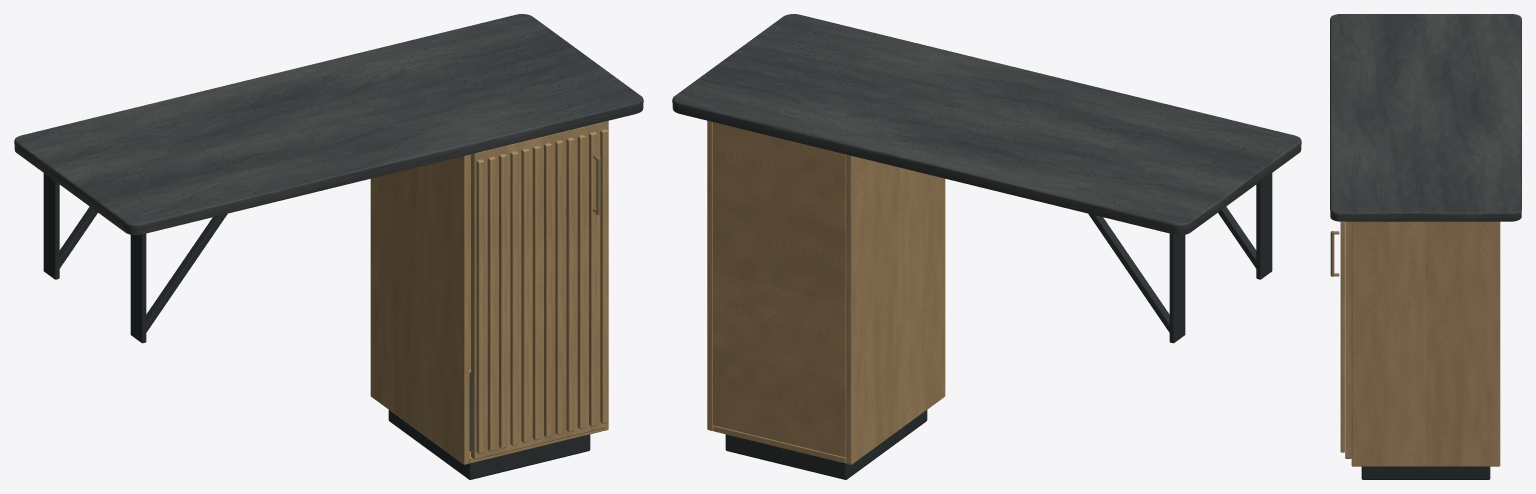
The picture shows the model from 3 angles, left to right: view 1: azimuth 30°, elevation 25°; view 2: azimuth 150°, elevation 25°; view 3: azimuth 270°, elevation 25°; orthographic projection. The views are drawn at different scales.
Visible parts, largest first — view 1: Cantilever breakfast counter, Oak peninsula base cabinet side, Base cabinet door, Inset cabinet plinth, Door vertical oak reed.001, Door vertical oak reed.005, Door vertical oak reed.008, Door vertical oak reed.009, Door vertical oak reed, Door vertical oak reed.003, Door vertical oak reed.004, Door vertical oak reed.007 (+8 smaller); view 2: Cantilever breakfast counter, Oak peninsula base cabinet back, Oak peninsula base cabinet side, Inset cabinet plinth, Oak peninsula base cabinet side.001, Wall-side mounting plate.001, Wall-side mounting plate, Wall bracket diagonal.001, Oak peninsula base cabinet deck, Wall bracket diagonal; view 3: Cantilever breakfast counter, Oak peninsula base cabinet side.001, Inset cabinet plinth, Base cabinet door, Door vertical oak reed.011, Slim cabinet pull | grip.
Part boxes in pixels (left/top/right/bottom): Cantilever breakfast counter: left=14, top=14, right=643, bottom=235; Oak peninsula base cabinet side: left=370, top=154, right=469, bottom=464; Base cabinet door: left=471, top=121, right=606, bottom=459; Inset cabinet plinth: left=388, top=372, right=590, bottom=479; Door vertical oak reed.001: left=487, top=156, right=495, bottom=451; Door vertical oak reed.005: left=532, top=145, right=540, bottom=440; Door vertical oak reed.008: left=566, top=137, right=574, bottom=431; Door vertical oak reed.009: left=577, top=134, right=585, bottom=429; Door vertical oak reed: left=476, top=159, right=484, bottom=453; Door vertical oak reed.003: left=510, top=151, right=518, bottom=445; Door vertical oak reed.004: left=521, top=148, right=529, bottom=442; Door vertical oak reed.007: left=555, top=140, right=563, bottom=434; Cantilever breakfast counter: left=672, top=14, right=1301, bottom=235; Oak peninsula base cabinet back: left=713, top=122, right=846, bottom=457; Oak peninsula base cabinet side: left=846, top=154, right=945, bottom=464; Inset cabinet plinth: left=725, top=410, right=927, bottom=479; Oak peninsula base cabinet side.001: left=707, top=120, right=713, bottom=430; Wall-side mounting plate.001: left=1169, top=233, right=1185, bottom=343; Wall-side mounting plate: left=1256, top=173, right=1272, bottom=279; Wall bracket diagonal.001: left=1088, top=213, right=1169, bottom=332; Oak peninsula base cabinet deck: left=713, top=425, right=846, bottom=463; Wall bracket diagonal: left=1218, top=206, right=1256, bottom=268; Cantilever breakfast counter: left=1330, top=14, right=1521, bottom=221; Oak peninsula base cabinet side.001: left=1351, top=221, right=1500, bottom=466; Inset cabinet plinth: left=1361, top=466, right=1490, bottom=479; Base cabinet door: left=1345, top=221, right=1351, bottom=458; Door vertical oak reed.011: left=1340, top=221, right=1344, bottom=452; Slim cabinet pull | grip: left=1330, top=231, right=1334, bottom=276.
Size of the model in its own units: 1.6 by 1.05 by 0.65.
Materials: 5 (3 with a texture image).
